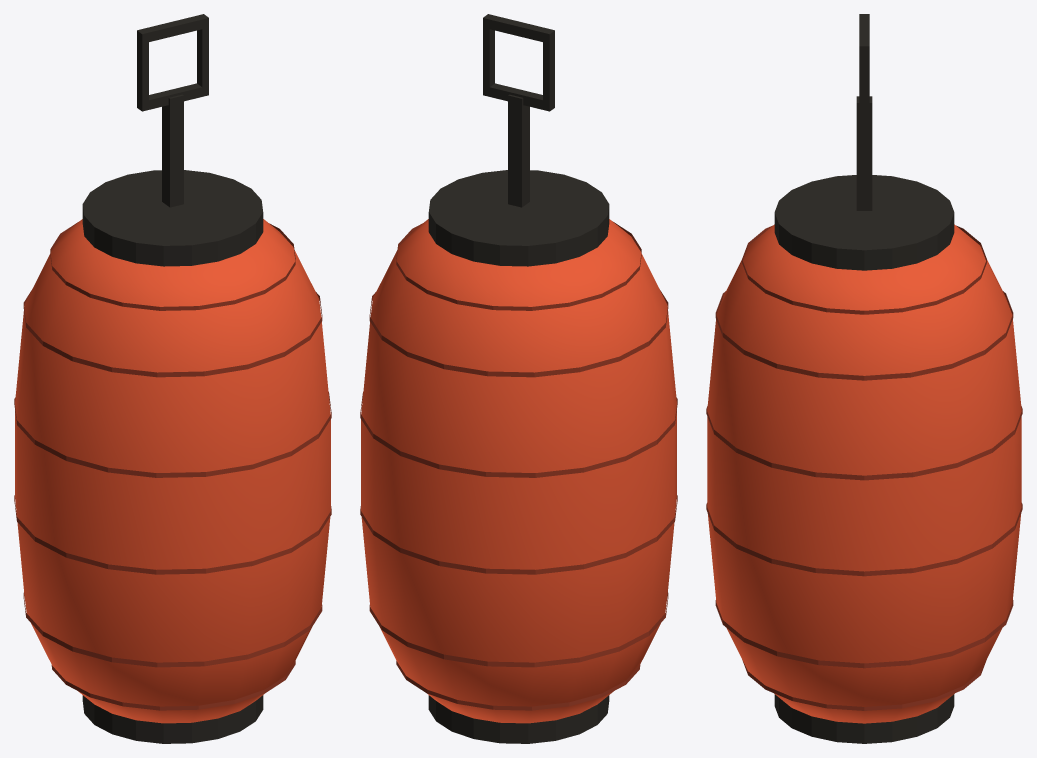
Rendered from shop_lantern.glb.
3 renders of one model, left to right at view 1: azimuth 30°, elevation 25°; view 2: azimuth 150°, elevation 25°; view 3: azimuth 270°, elevation 25°, orthographic.
Visible parts, largest first — view 1: shop_lantern; view 2: shop_lantern; view 3: shop_lantern.
Boxes of the visible parts, x1,y1,x2,y2 form: shop_lantern: [14, 14, 331, 743]; shop_lantern: [360, 14, 677, 743]; shop_lantern: [706, 14, 1022, 743].
Bounding box in the file's own units: 0.2392 × 0.564 × 0.2392.
